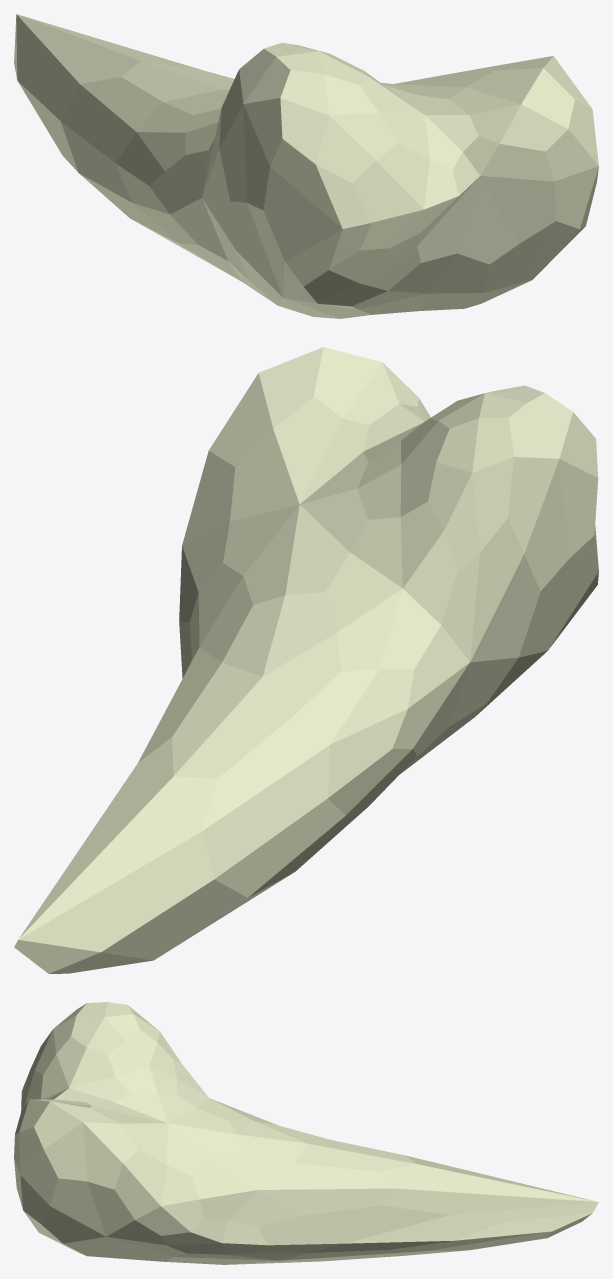
The model's file is T_broken_bone_2 (1).fbx.
The picture shows the model from 3 angles, top to bottom: view 1: azimuth 30°, elevation 25°; view 2: azimuth 150°, elevation 25°; view 3: azimuth 270°, elevation 25°; orthographic projection. The views are drawn at different scales.
Visible parts, largest first — view 1: Cylinder; view 2: Cylinder; view 3: Cylinder.
Boxes of the visible parts, x1,y1,x2,y2 form: Cylinder: (14,14,598,318); Cylinder: (14,347,598,973); Cylinder: (14,1002,598,1264).
Size of the model in its own units: 1325 by 1282 by 3073.
